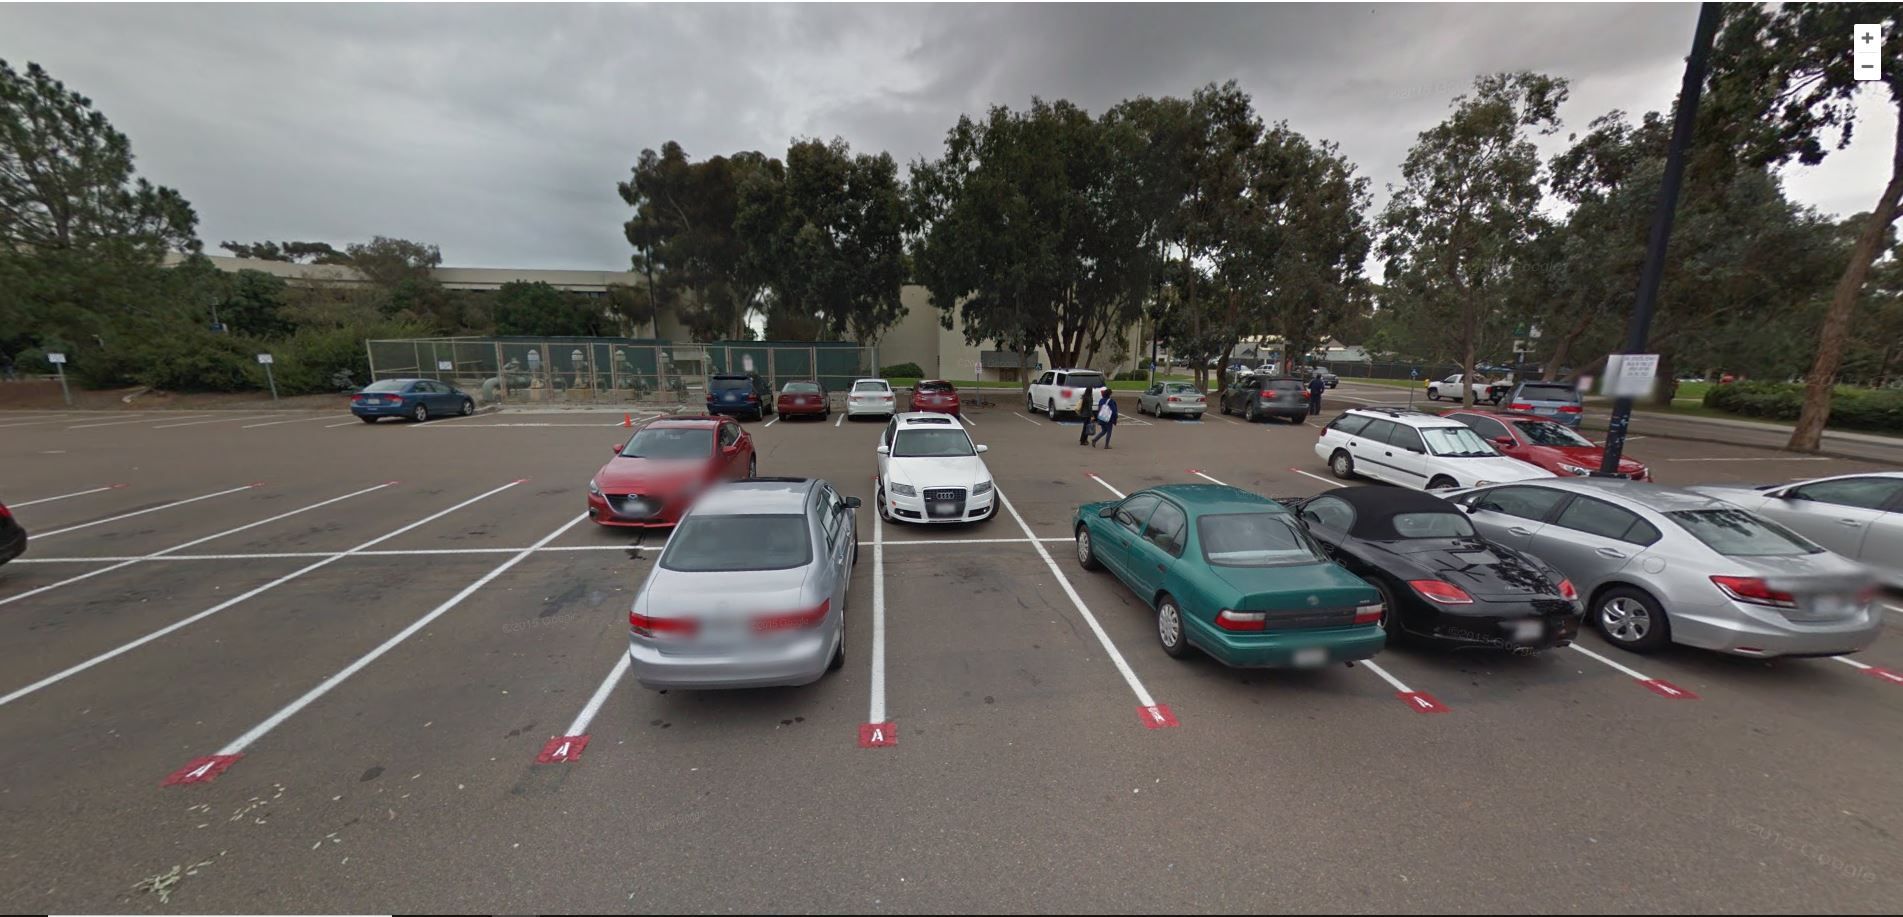car: (1447, 475, 1893, 667), (1061, 475, 1381, 682), (1274, 484, 1581, 657), (629, 474, 868, 689), (1308, 401, 1553, 505), (585, 415, 786, 529), (870, 411, 1002, 526), (350, 359, 490, 427), (1019, 365, 1127, 425), (1217, 372, 1313, 425), (701, 370, 776, 420), (1134, 382, 1210, 425), (837, 378, 907, 425), (907, 374, 962, 420), (774, 377, 833, 416)
